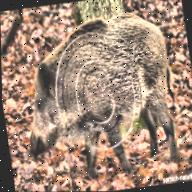boar: (12, 9, 192, 185)
